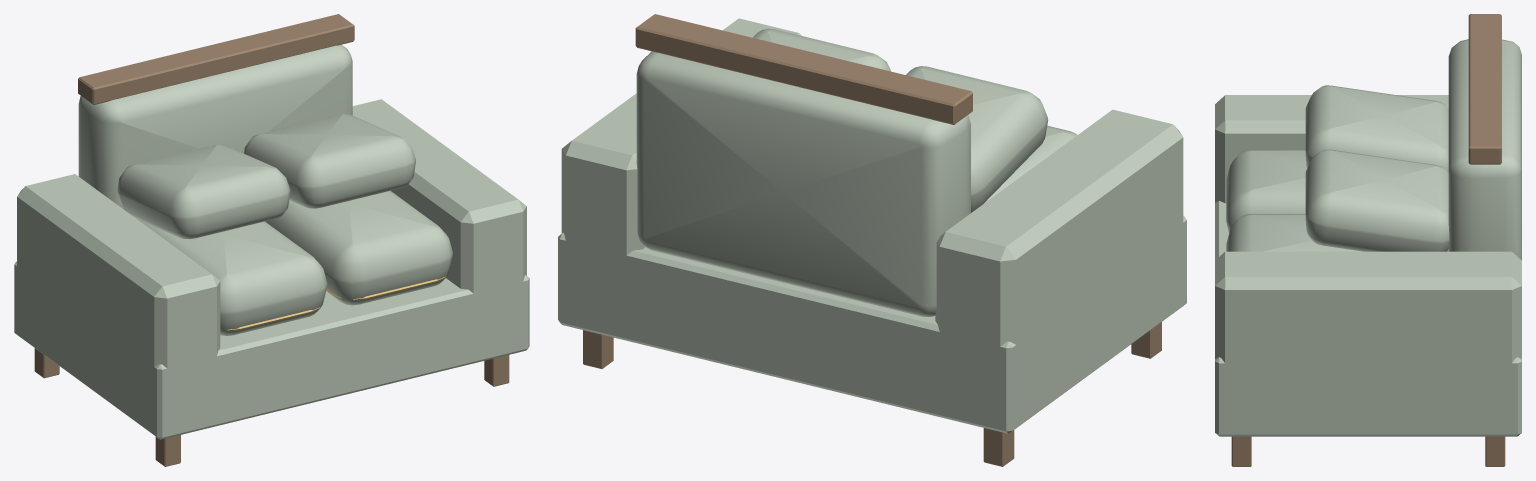
Rendered from apto_sofa2.glb.
3 renders of one model, left to right at view 1: azimuth 30°, elevation 25°; view 2: azimuth 150°, elevation 25°; view 3: azimuth 270°, elevation 25°, orthographic. The views are drawn at different scales.
Parts seen in each view (by area): view 1: loveseat-small; view 2: loveseat-small; view 3: loveseat-small.
Boxes of the visible parts, x1,y1,x2,y2 form: loveseat-small: [14, 14, 529, 466]; loveseat-small: [558, 14, 1186, 466]; loveseat-small: [1215, 14, 1521, 466].
Bounding box in the file's own units: 1.35 × 0.99 × 0.92.
